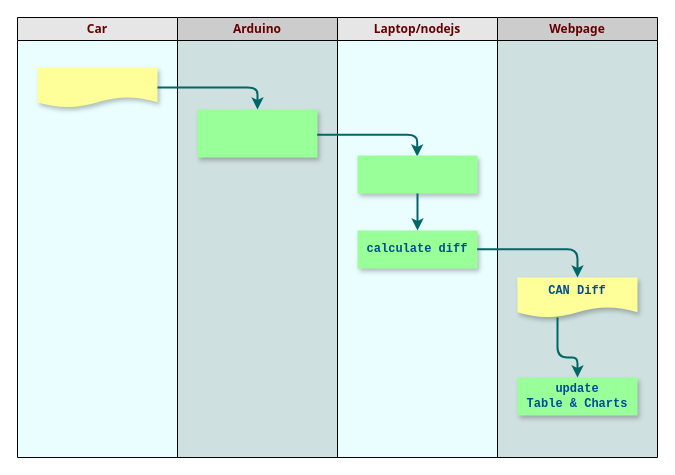
Image size: 675x475. Some labels were removed from this diagram. Here are the shapes that lost their labels. From the top down, the centre of each, then its label:
At pixel 98 88: "CAN Message".
At pixel 258 134: "collecting 3 messages".
At pixel 418 175: "collect for 100-1000 ms".
